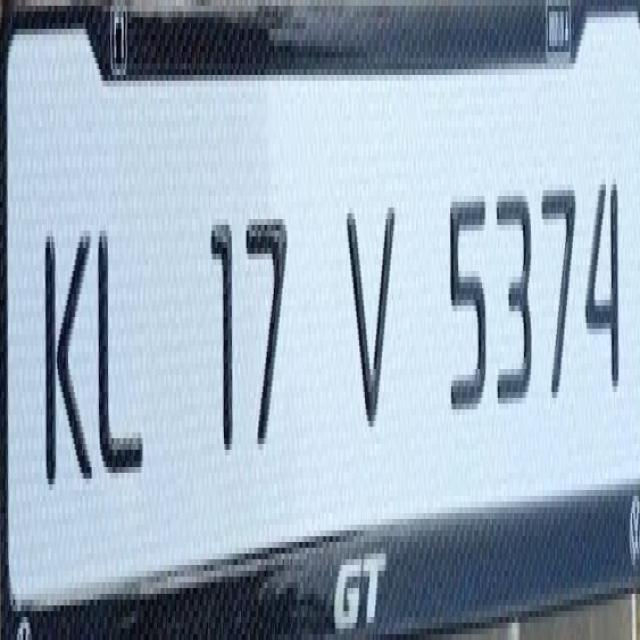1: (207, 148, 242, 490)
3: (492, 148, 538, 441)
4: (581, 135, 626, 416)
5: (443, 126, 492, 460)
7: (244, 170, 296, 464), (538, 173, 580, 431)
K: (41, 190, 94, 520)
L: (92, 190, 150, 516)
V: (340, 170, 398, 457)
